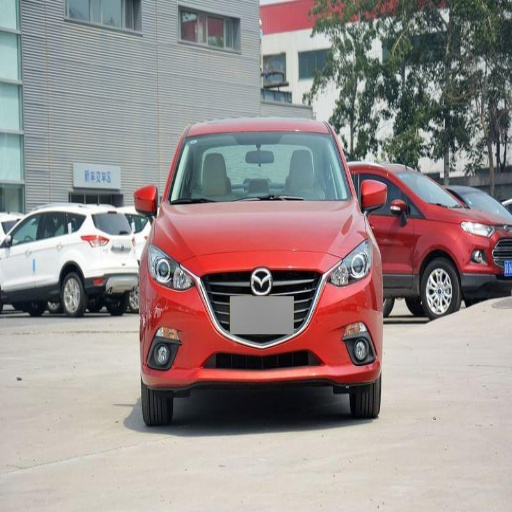back_glass: (36, 212, 68, 285)
back_right_light: (141, 254, 381, 387)
front_bumper: (169, 132, 351, 203)
front_glass: (2, 213, 42, 286)
front_left_door: (325, 241, 374, 286)
front_right_door: (146, 245, 194, 290)
front_right_light: (154, 202, 366, 260), (451, 191, 503, 221)
hood: (362, 178, 385, 213)
left_mirror: (134, 185, 157, 216)
trunk: (421, 258, 456, 317), (140, 387, 176, 426), (347, 382, 381, 419)
